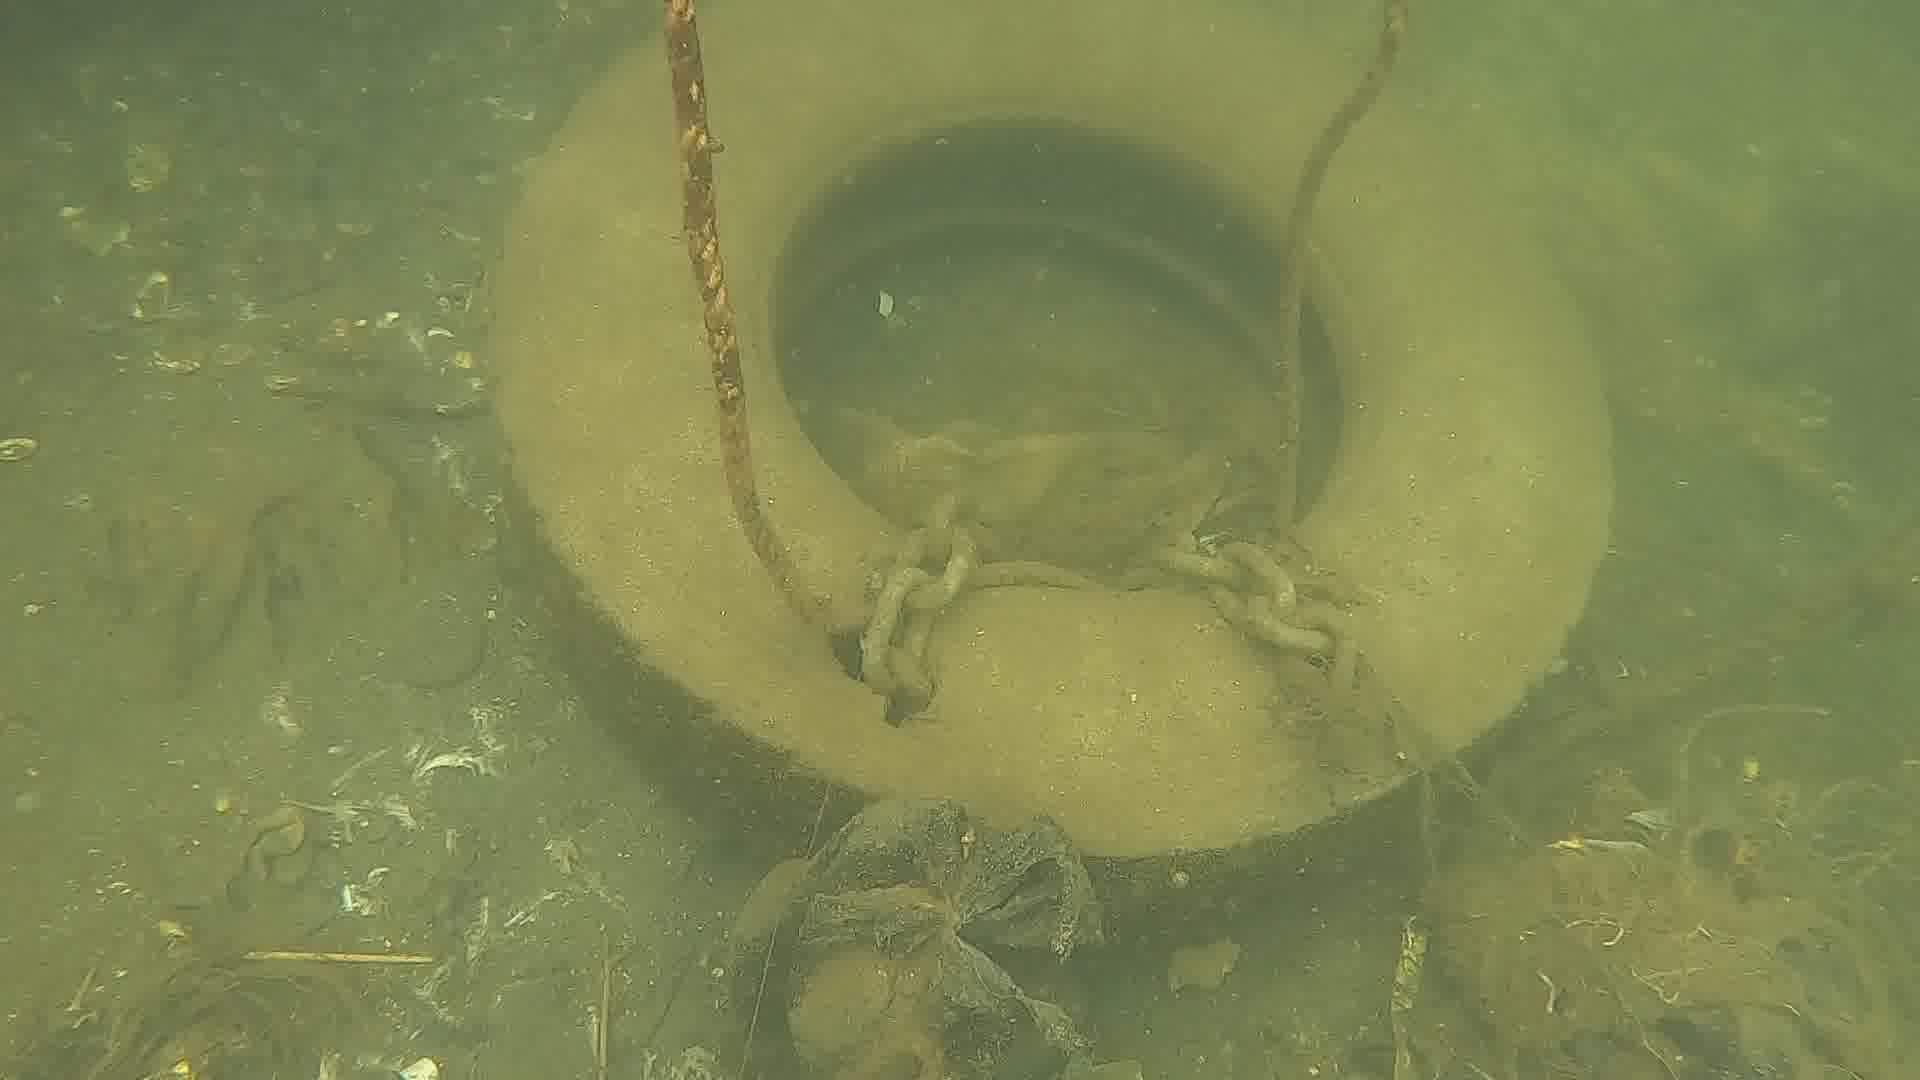rope: (659, 0, 837, 641), (1261, 0, 1424, 553)
tire: (485, 0, 1626, 938)
